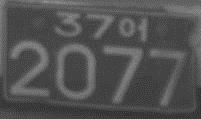0: (55, 43, 97, 100)
2: (9, 39, 49, 97)
3: (53, 10, 82, 39)
7: (101, 44, 145, 106), (148, 46, 187, 107), (84, 12, 115, 40)
어: (118, 16, 148, 42)
